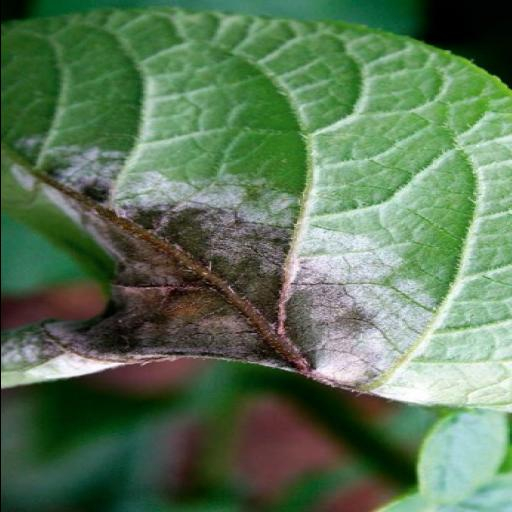Late Blight: (0, 10, 510, 414)
